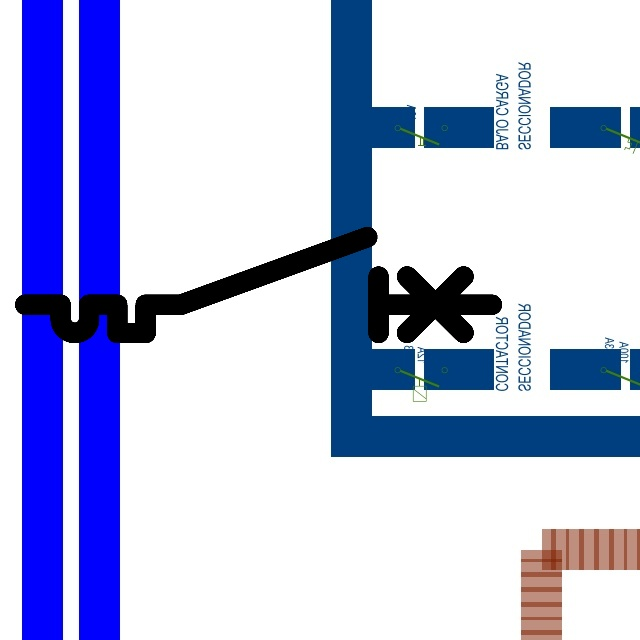interruptor_termomagnetico: (13, 225, 503, 345)
